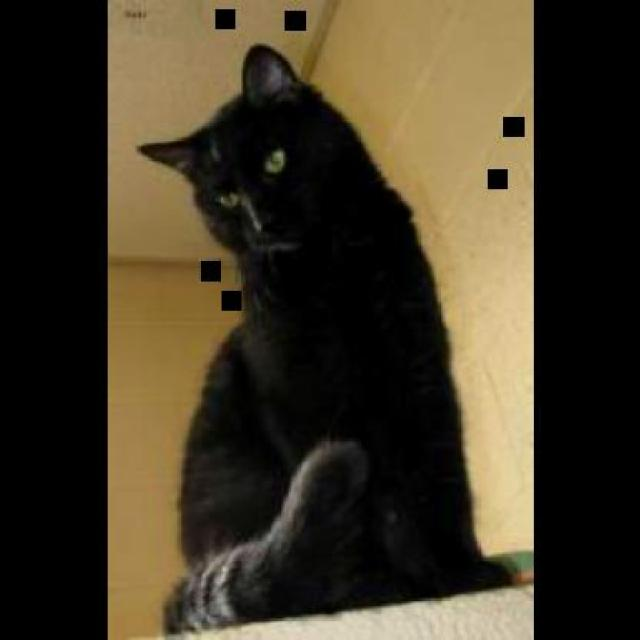unauthorized: (135, 41, 531, 637)
